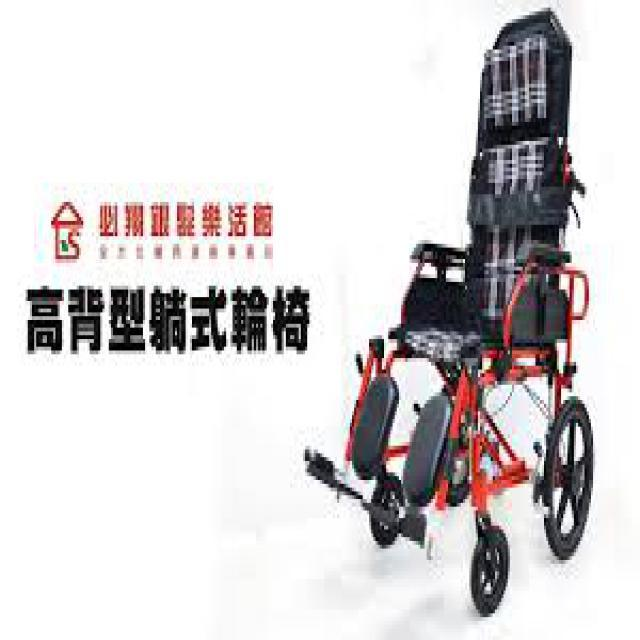wheelchair: (290, 4, 619, 621)
